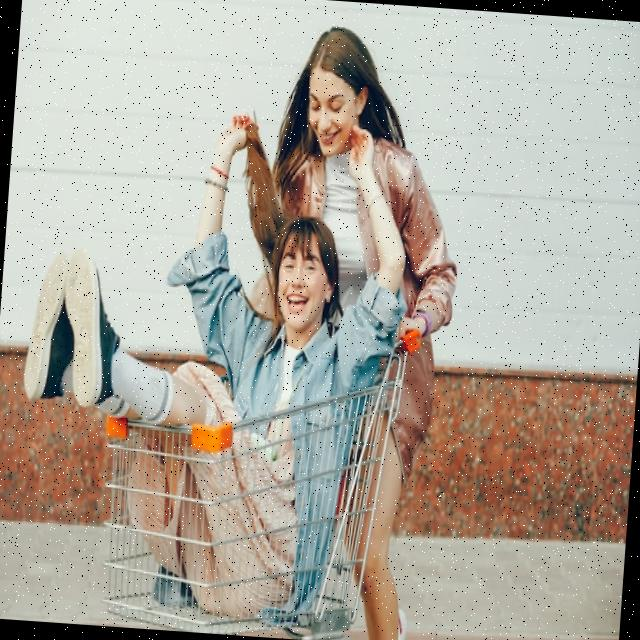Person: (7, 99, 420, 629), (209, 19, 473, 640)
